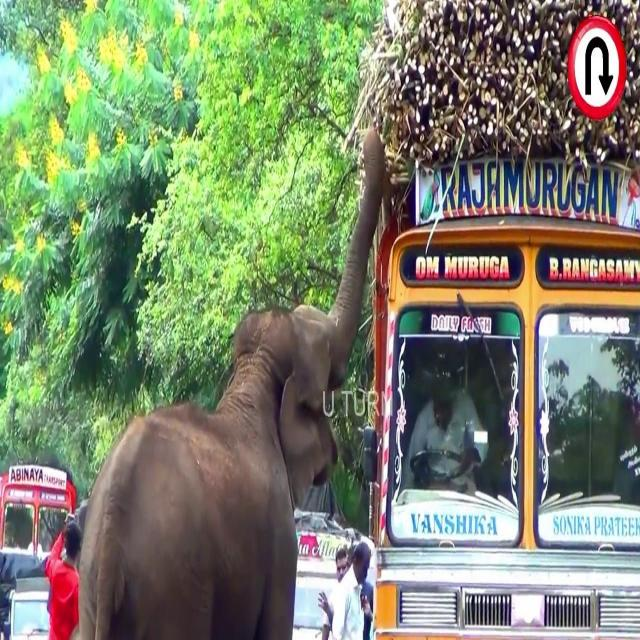Elephant: (76, 127, 386, 633)
